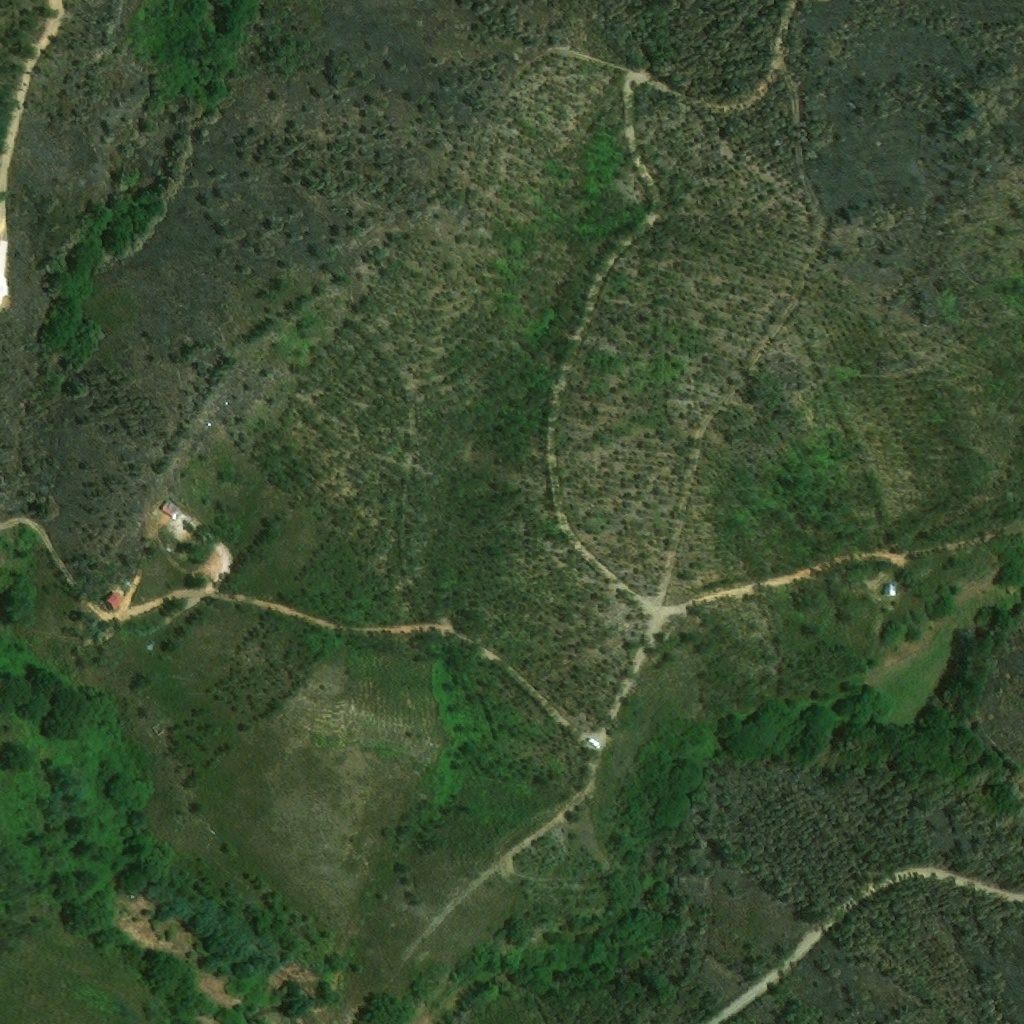0 no-damage: (104, 591, 124, 612), (883, 582, 896, 596)
1 minor-damage: (159, 500, 172, 514)
